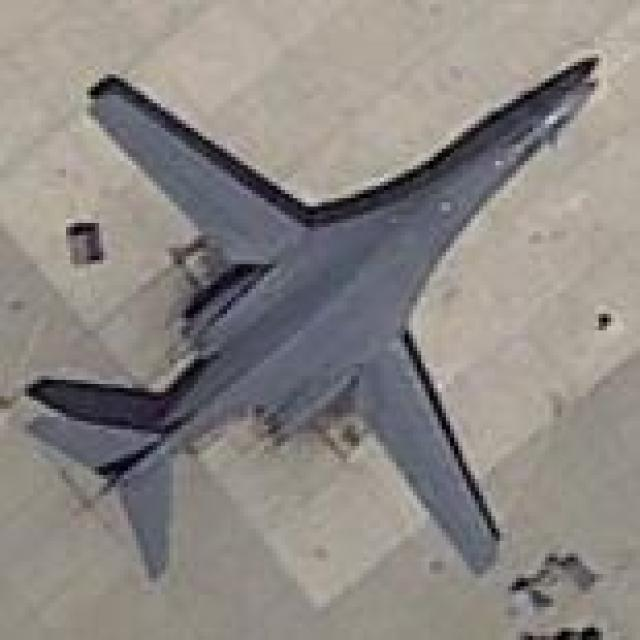B-1_TopDown: (0, 46, 603, 590)
